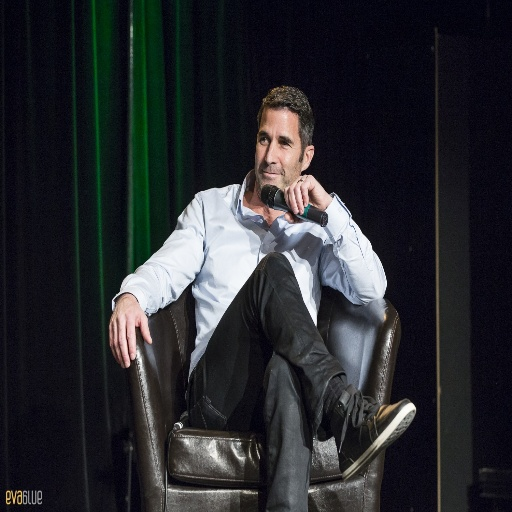hand: (107, 294, 153, 368), (283, 173, 330, 222)
